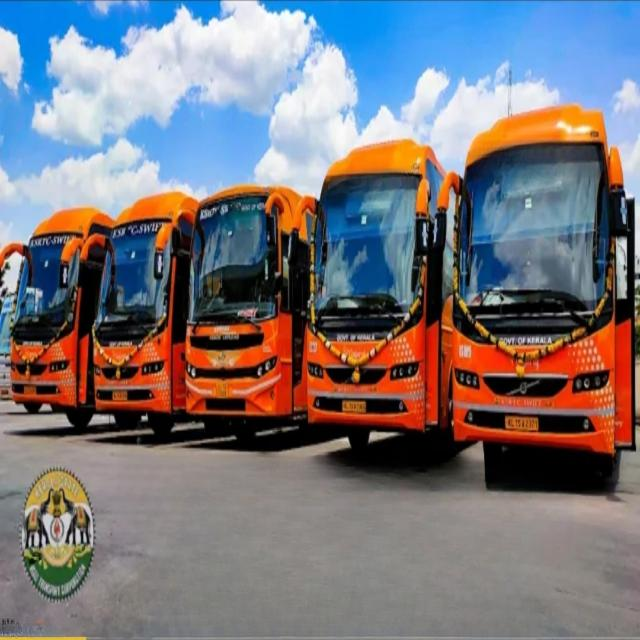bus: (439, 107, 635, 482), (289, 140, 452, 453), (172, 184, 311, 442), (81, 191, 198, 438), (0, 207, 114, 429)
